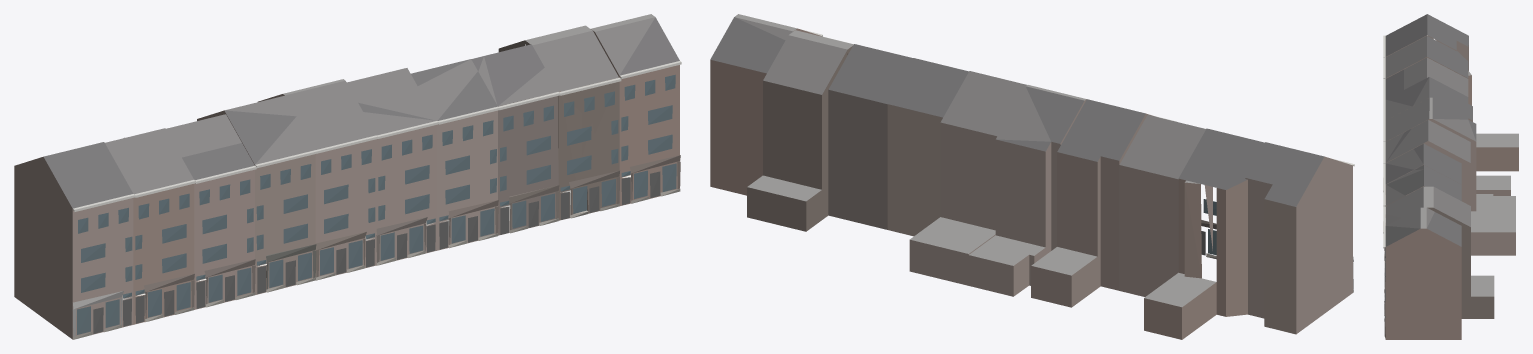
The model's file is chunk-face-molukken-35-67-r1.lod2.glb.
3 renders of one model, left to right at view 1: azimuth 30°, elevation 25°; view 2: azimuth 150°, elevation 25°; view 3: azimuth 270°, elevation 25°, orthographic. The views are drawn at different scales.
Parts seen in each view (by area): view 1: lod2; view 2: lod2; view 3: lod2.
Part boxes in pixels (x1,y1,x2,y2): lod2: (14, 14, 681, 339); lod2: (710, 14, 1354, 339); lod2: (1383, 14, 1518, 339).
Size of the model in its own units: 61.4 by 15.69 by 16.7.
